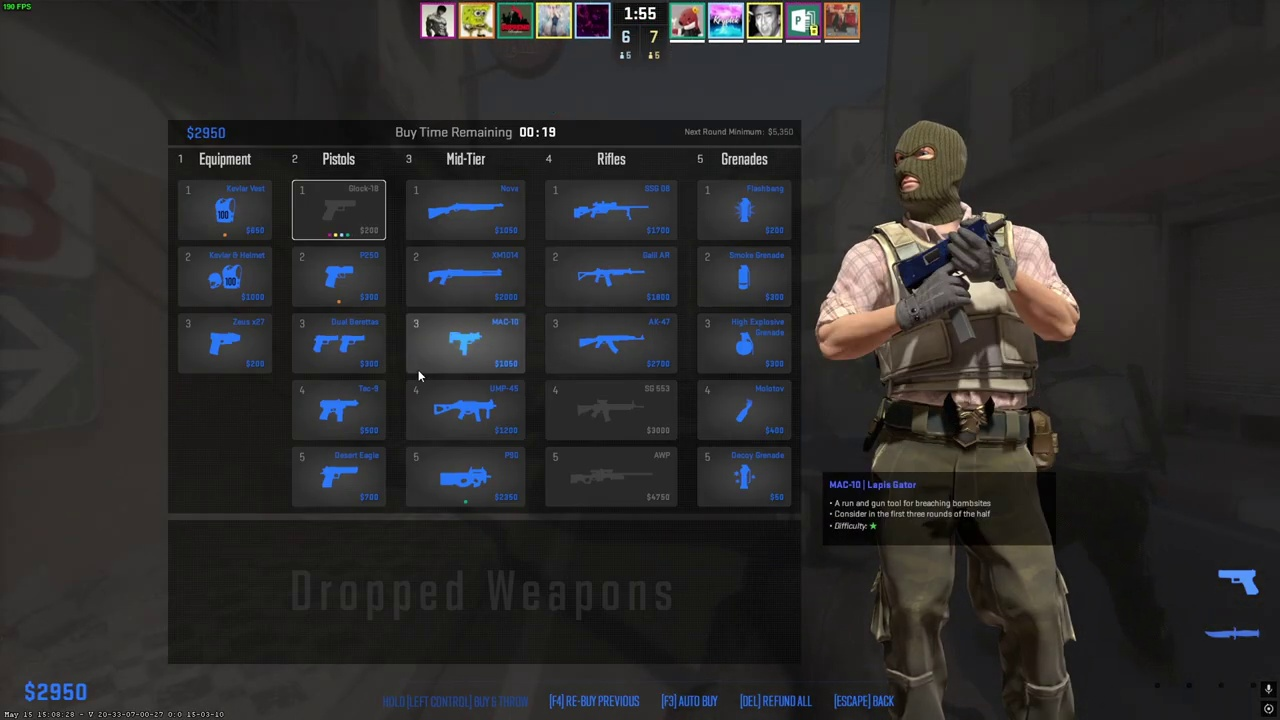Terrorist: (852, 121, 1074, 720)
